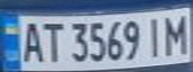3: (66, 19, 90, 63)
5: (87, 18, 109, 63)
6: (106, 17, 127, 62)
9: (121, 17, 145, 61)
A: (18, 18, 45, 64)
I: (142, 14, 169, 58)
M: (160, 11, 190, 56)
T: (36, 19, 66, 63)
